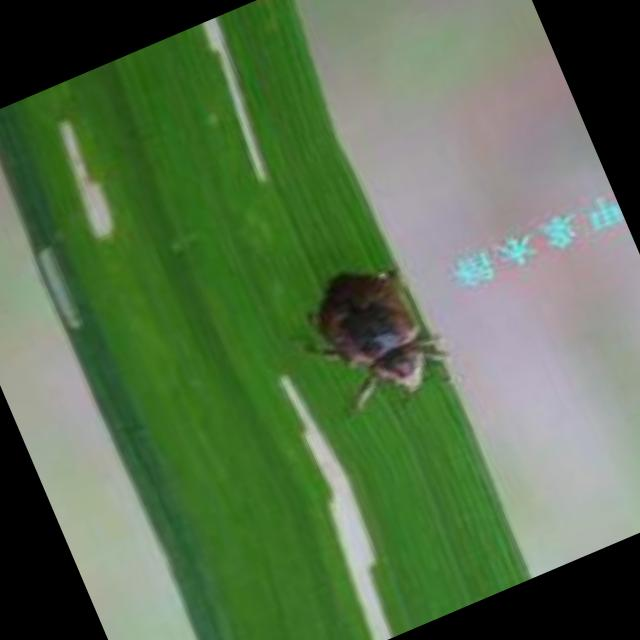rice-bug: (296, 243, 460, 422)
